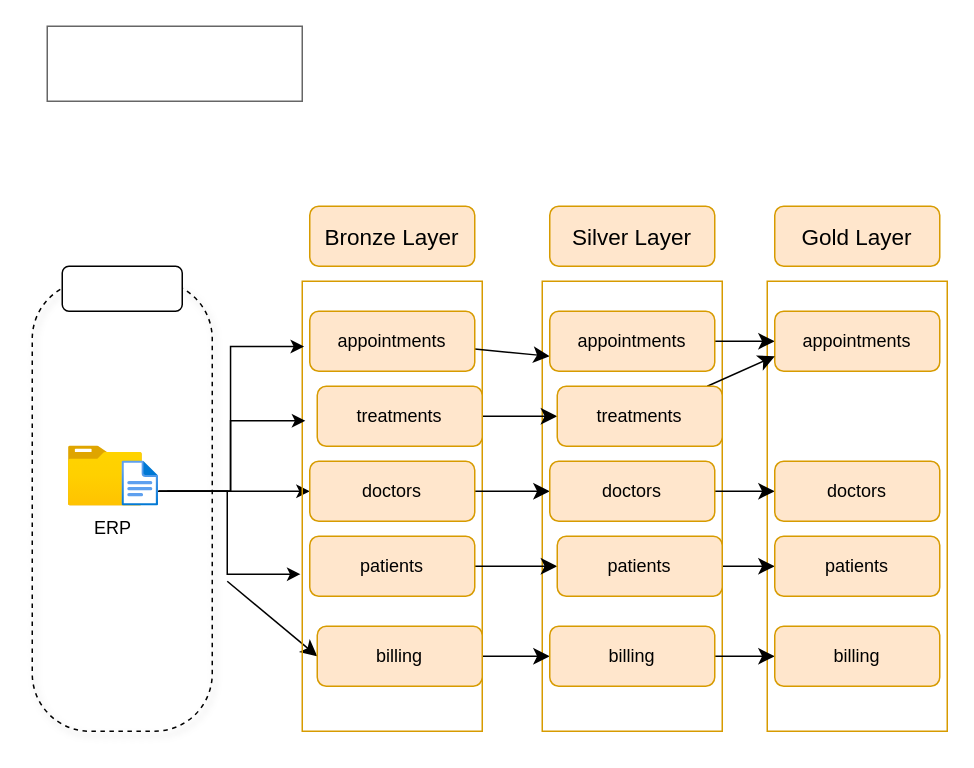
This 974x768 diagram has some shape labels left out. Here are the shapes that lost their labels. From the top down, the centre of each, then its label:
the point at 174,63: Data Flow
the point at 121,288: Source
